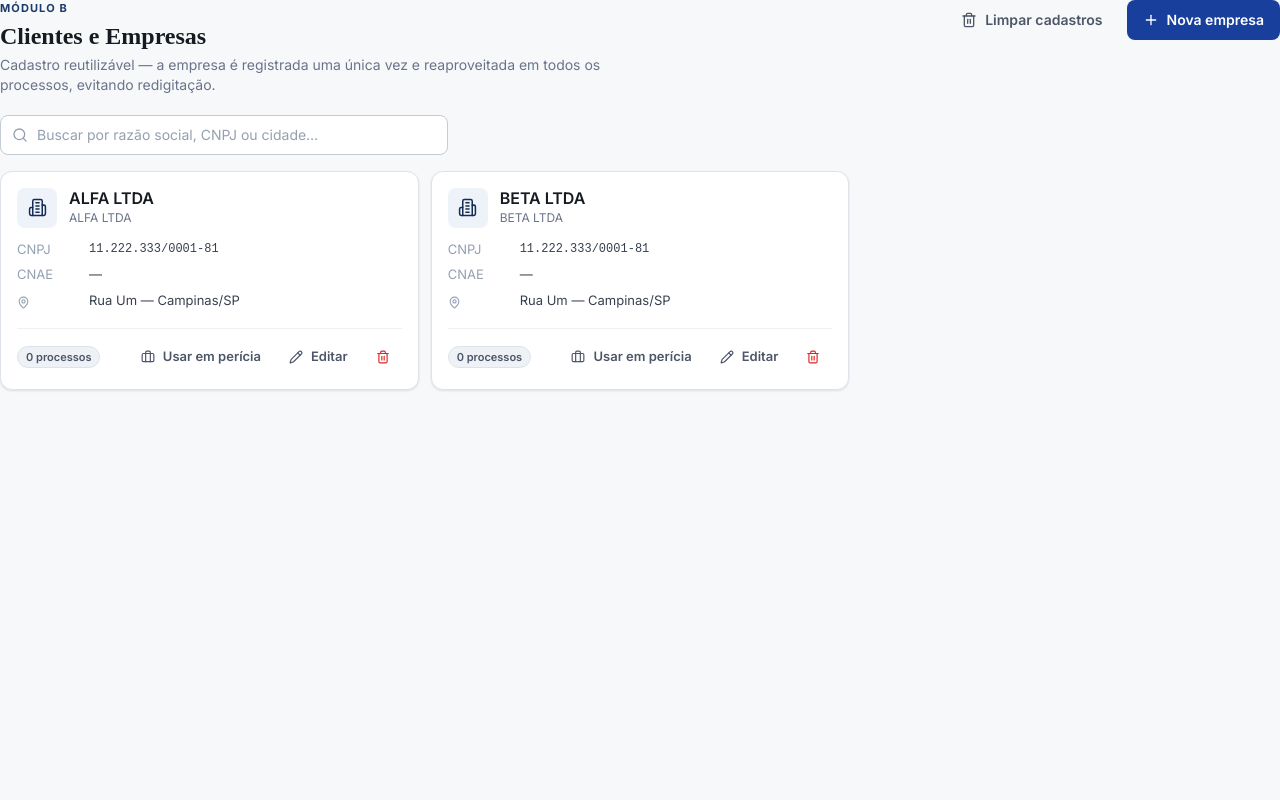
Test: Clientes — limpeza dos cadastros de teste › confirmada, apaga e diz quantas saíram
The image size is (1280, 800).
Click the button "Limpar cadastros" at (1032, 20), box [945,0,1119,40]
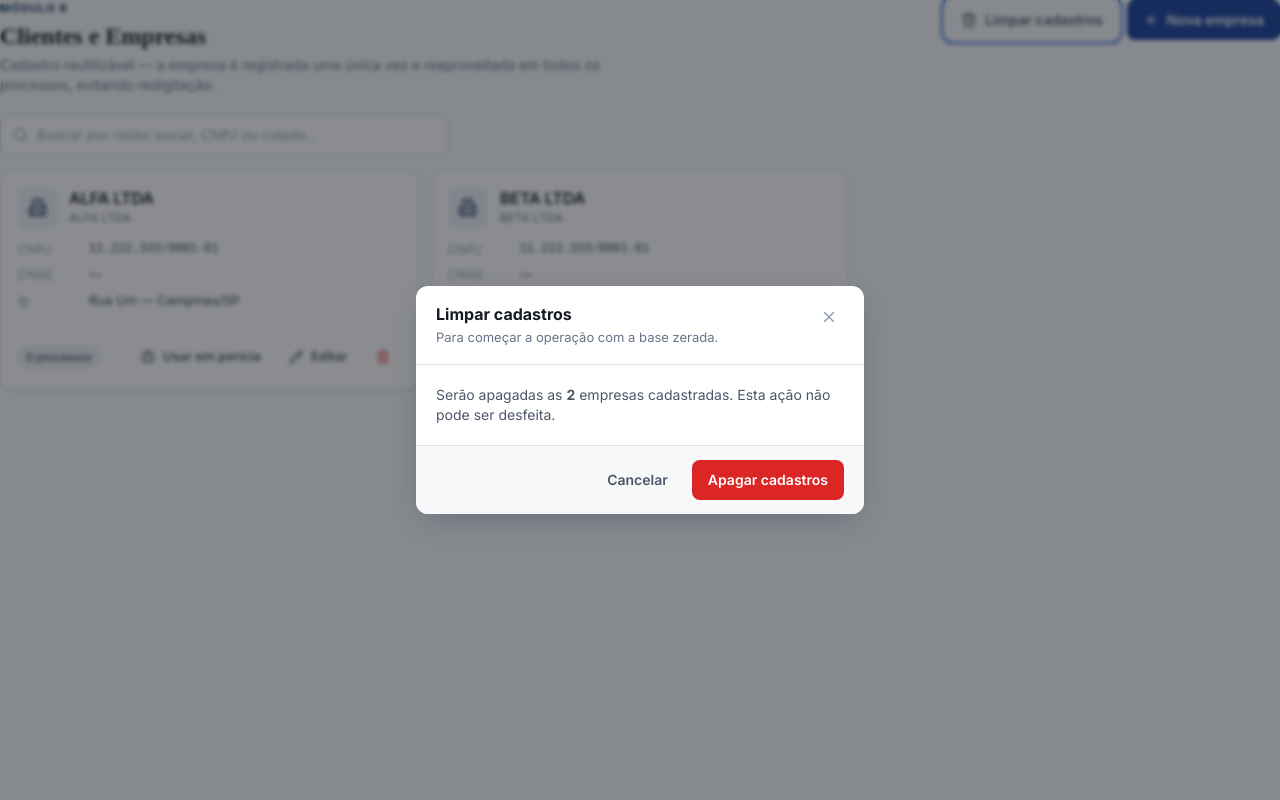
Click the button "Apagar cadastros" at (768, 480), box [692,460,844,500]
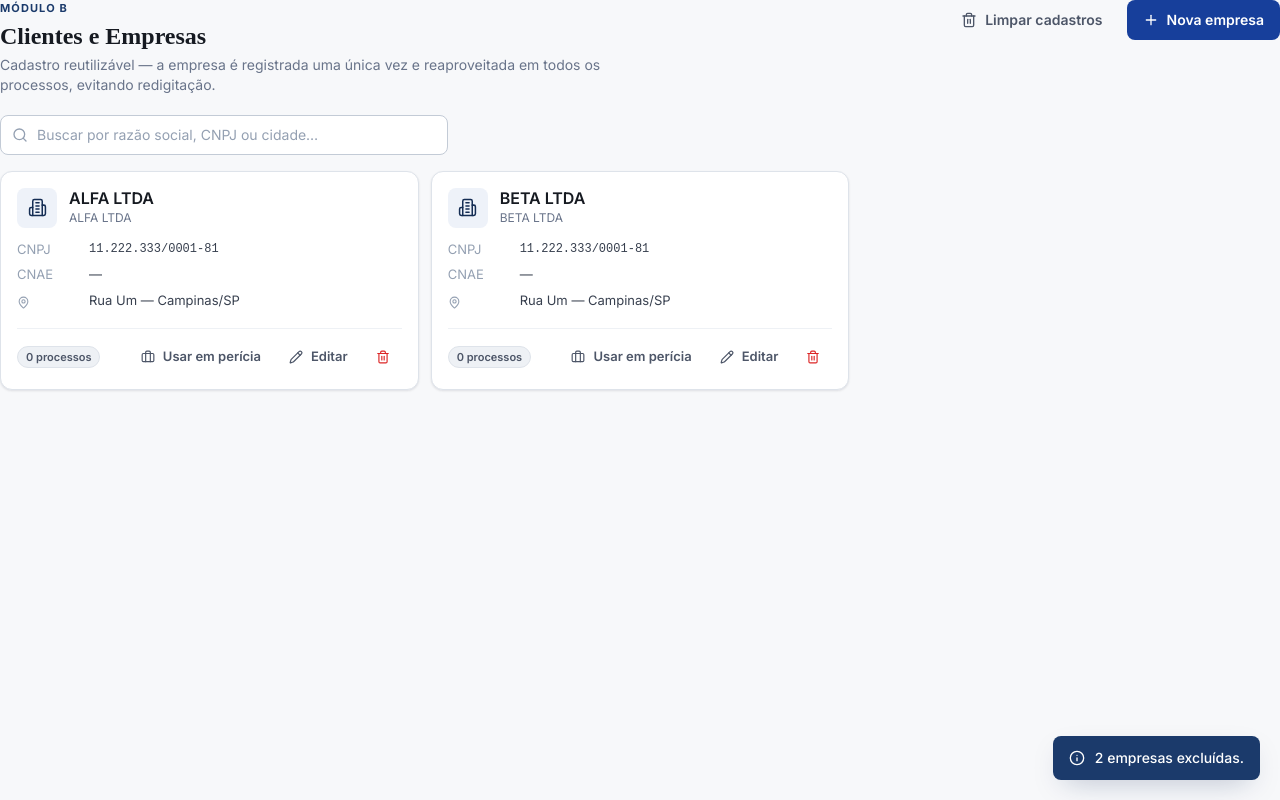
expect the text "2 empresas excluídas." is shown: met, box [1095,748,1244,768]
